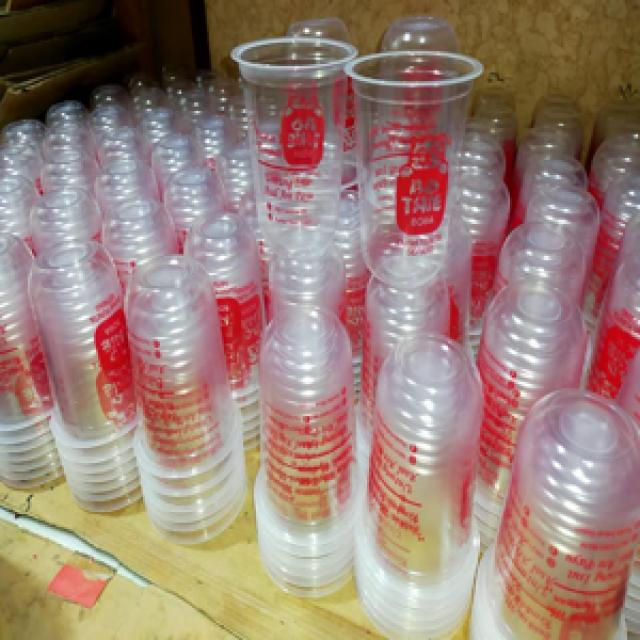plastic cup: (2, 73, 241, 320), (352, 326, 491, 638), (474, 384, 634, 640), (245, 296, 369, 606), (124, 248, 252, 546), (348, 45, 490, 296), (452, 109, 636, 292), (27, 235, 136, 529), (226, 32, 363, 265), (480, 279, 587, 525)
